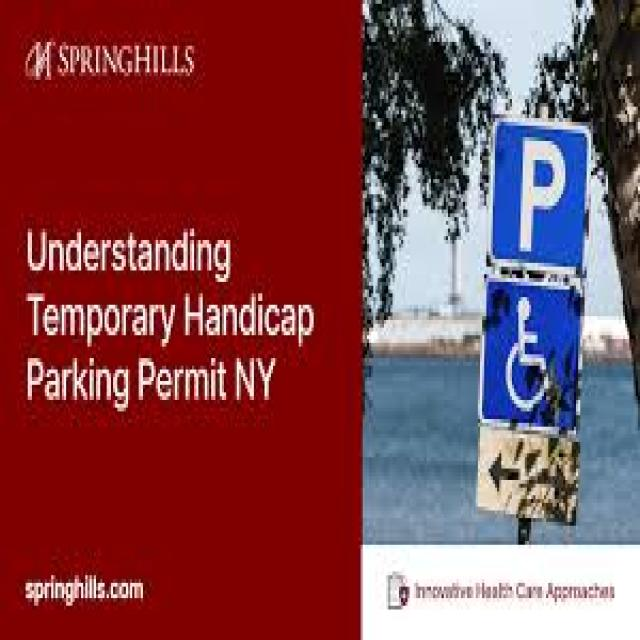car-handicap-placard: (502, 288, 570, 423)
